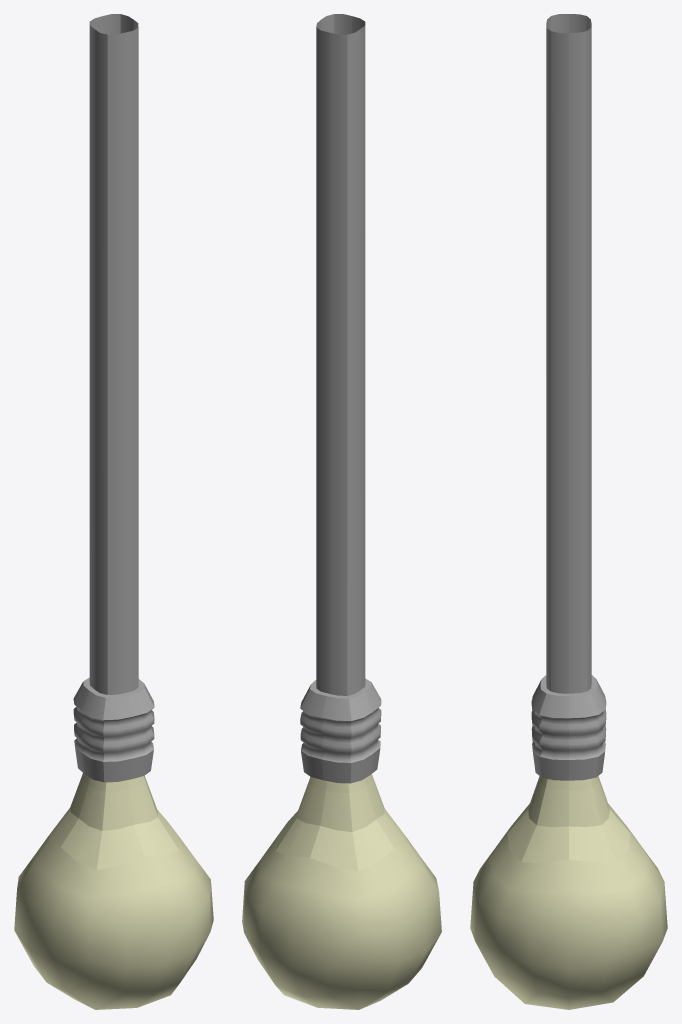
Rendered from geo_lampoffice.fbx.
The picture shows the model from 3 angles, left to right: view 1: azimuth 30°, elevation 25°; view 2: azimuth 150°, elevation 25°; view 3: azimuth 270°, elevation 25°; orthographic projection.
Visible parts, largest first — view 1: geo_lampoffice; view 2: geo_lampoffice; view 3: geo_lampoffice.
Boxes of the visible parts, x1=… form: geo_lampoffice: x1=14, y1=14, x2=213, y2=1009; geo_lampoffice: x1=242, y1=14, x2=441, y2=1009; geo_lampoffice: x1=470, y1=14, x2=667, y2=1009.
Size of the model in its own units: 10.2 by 55.43 by 10.2.
